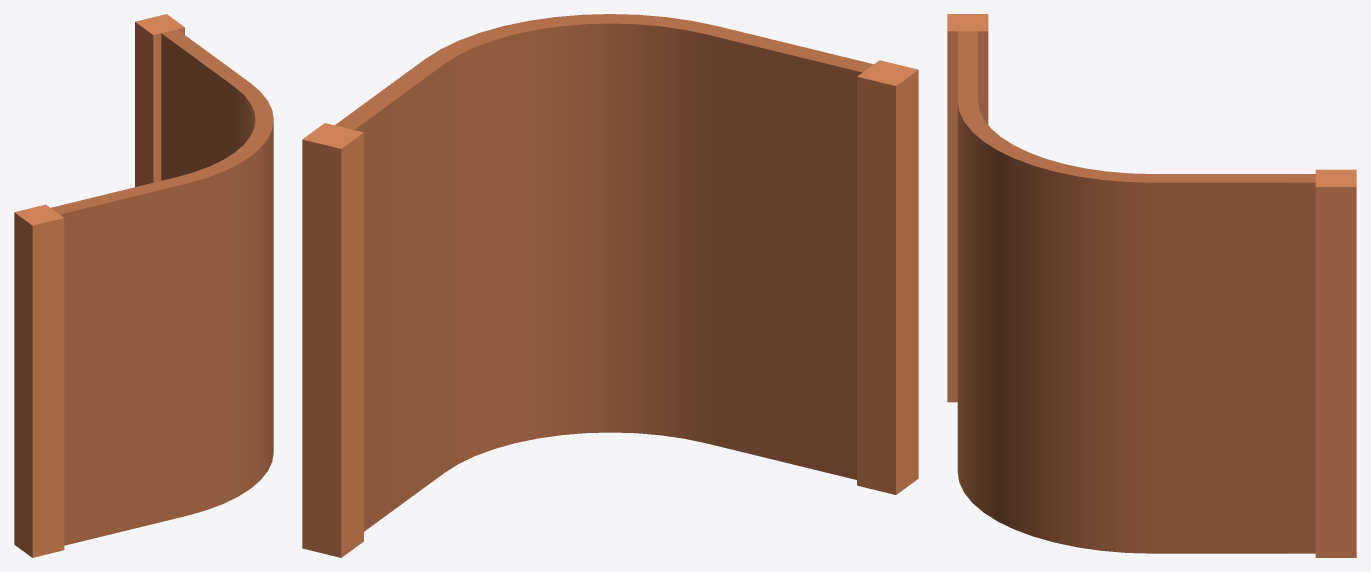
Rendered from wallWoodRounded.obj.
3 views of the same model, side by side, from view 1: azimuth 30°, elevation 25°; view 2: azimuth 150°, elevation 25°; view 3: azimuth 270°, elevation 25° (orthographic). The views are drawn at different scales.
Parts seen in each view (by area): view 1: wallWoodRounded; view 2: wallWoodRounded; view 3: wallWoodRounded.
Part boxes in pixels (left/top/right/bottom): wallWoodRounded: left=14, top=14, right=273, bottom=557; wallWoodRounded: left=302, top=14, right=918, bottom=557; wallWoodRounded: left=947, top=14, right=1356, bottom=557.
Bounding box in the file's own units: 1 × 1 × 1.
